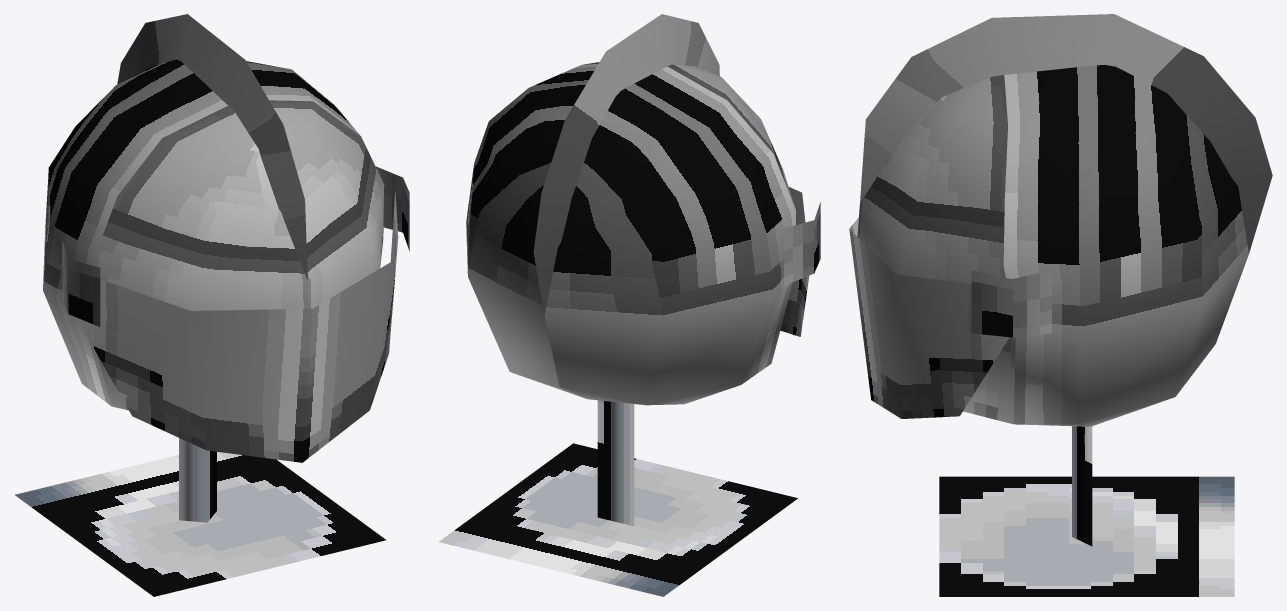
3 renders of one model, left to right at view 1: azimuth 30°, elevation 25°; view 2: azimuth 150°, elevation 25°; view 3: azimuth 270°, elevation 25°, orthographic. The views are drawn at different scales.
Parts seen in each view (by area): view 1: 2922head050_c; view 2: 2922head050_c; view 3: 2922head050_c.
Boxes of the visible parts, <box> form: 2922head050_c: <box>15,14,409,596</box>; 2922head050_c: <box>439,14,820,596</box>; 2922head050_c: <box>849,14,1272,596</box>.
Size of the model in its own units: 0.6641 by 0.9463 by 0.6885.
Materials: 2 (2 with a texture image).
